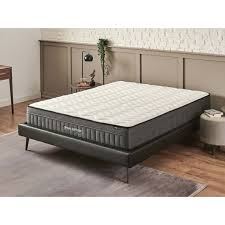bed-matress: (26, 80, 212, 152)
